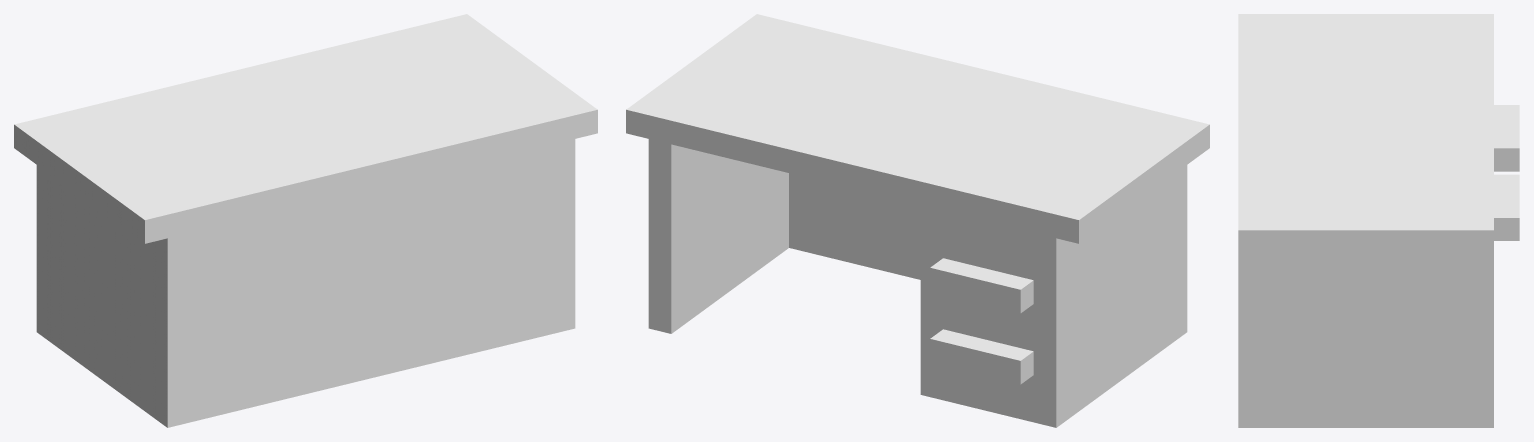
Rendered from cattedra.gltf.
3 renders of one model, left to right at view 1: azimuth 30°, elevation 25°; view 2: azimuth 150°, elevation 25°; view 3: azimuth 270°, elevation 25°, orthographic. The views are drawn at different scales.
Parts seen in each view (by area): view 1: Layer.1, Layer.2; view 2: Layer.1, Layer.2; view 3: Layer.2, Layer.1.
Part boxes in pixels (x1=…): Layer.1: x1=36, y1=139, x2=575, y2=427; Layer.2: x1=14, y1=14, x2=597, y2=243; Layer.1: x1=648, y1=139, x2=1187, y2=427; Layer.2: x1=626, y1=14, x2=1209, y2=243; Layer.2: x1=1238, y1=14, x2=1493, y2=253; Layer.1: x1=1238, y1=105, x2=1519, y2=427.
Size of the model in its own units: 20 by 9 by 11.
Materials: 1 (1 with a texture image).
